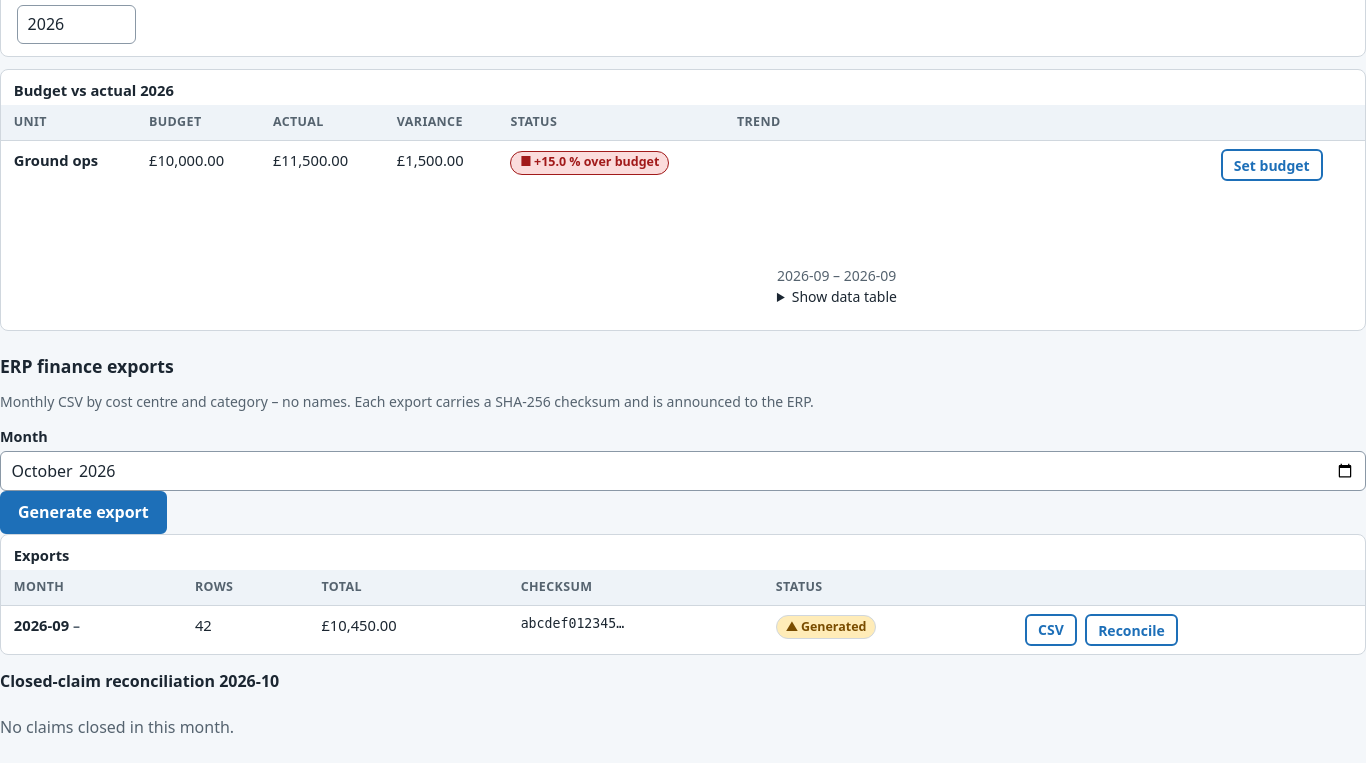
Test case: ClaimCostsScreen (FINANCE) › shows suppressed rows, budget variance and reconciles an ERP export
(page scrolled)
Check: the text "+15.0 % over budget" is shown, box [534,153,659,170]
Click the button with aria-label "Reconcile export 2026-09" at [1131, 630], box [1085,614,1178,646]
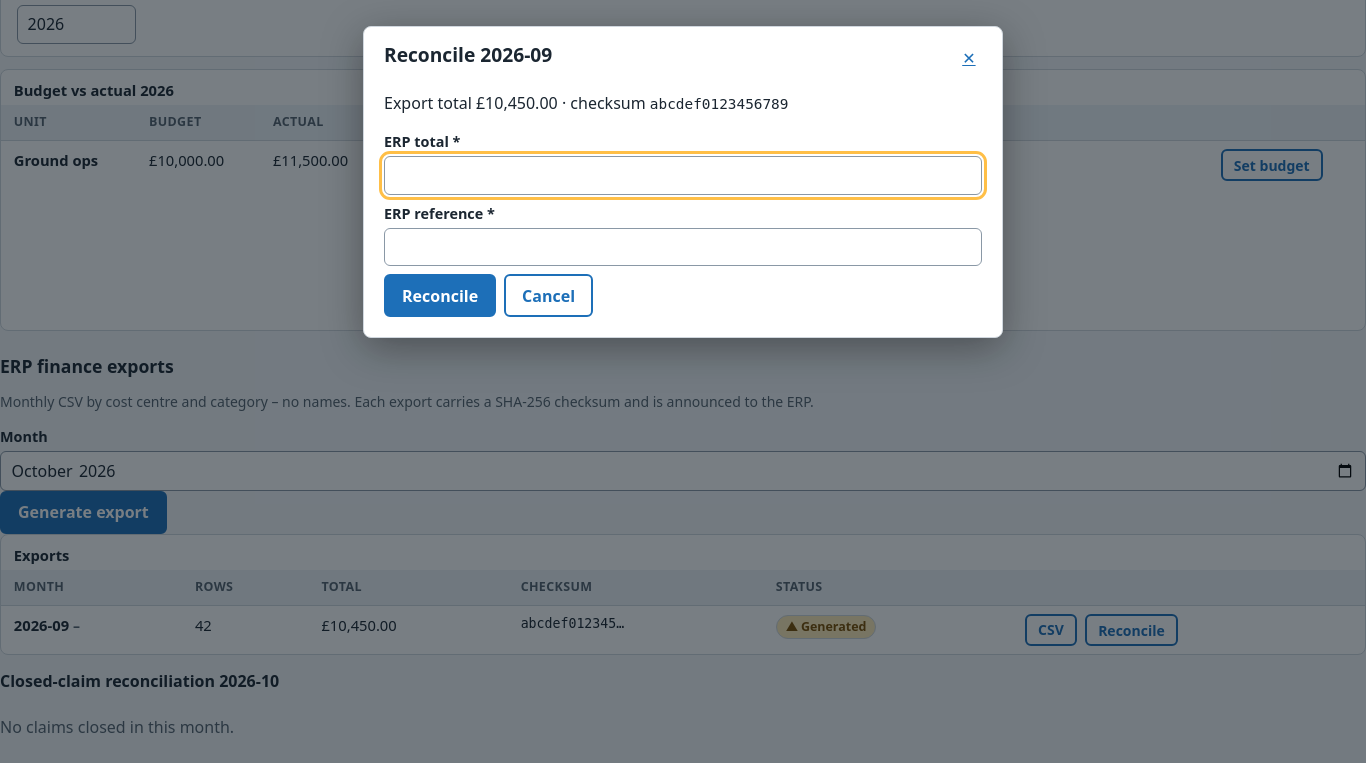
Type "10,450.00" into the field labelled "ERP total *" at [683, 176], box [384,156,982,195]
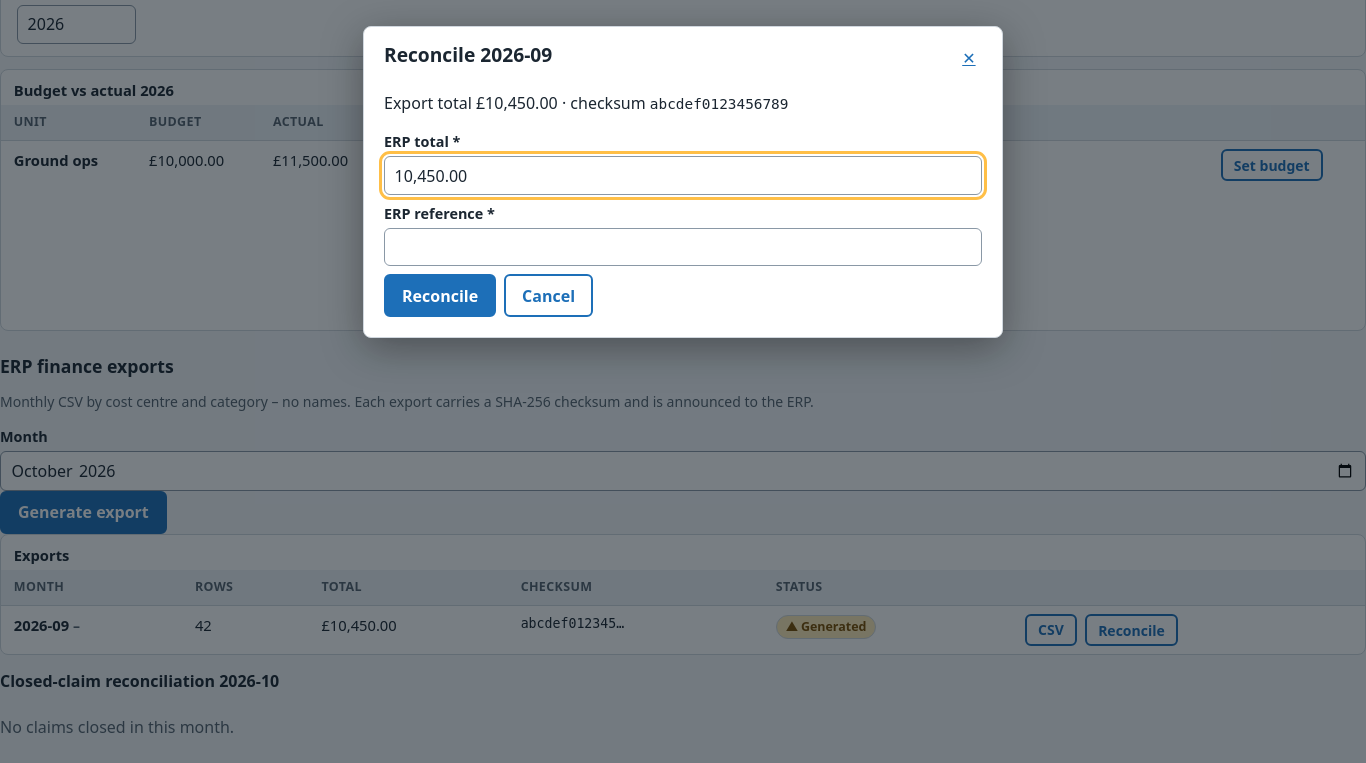
Type "SAP-123" into the field labelled "ERP reference *" at [683, 247], box [384,228,982,266]
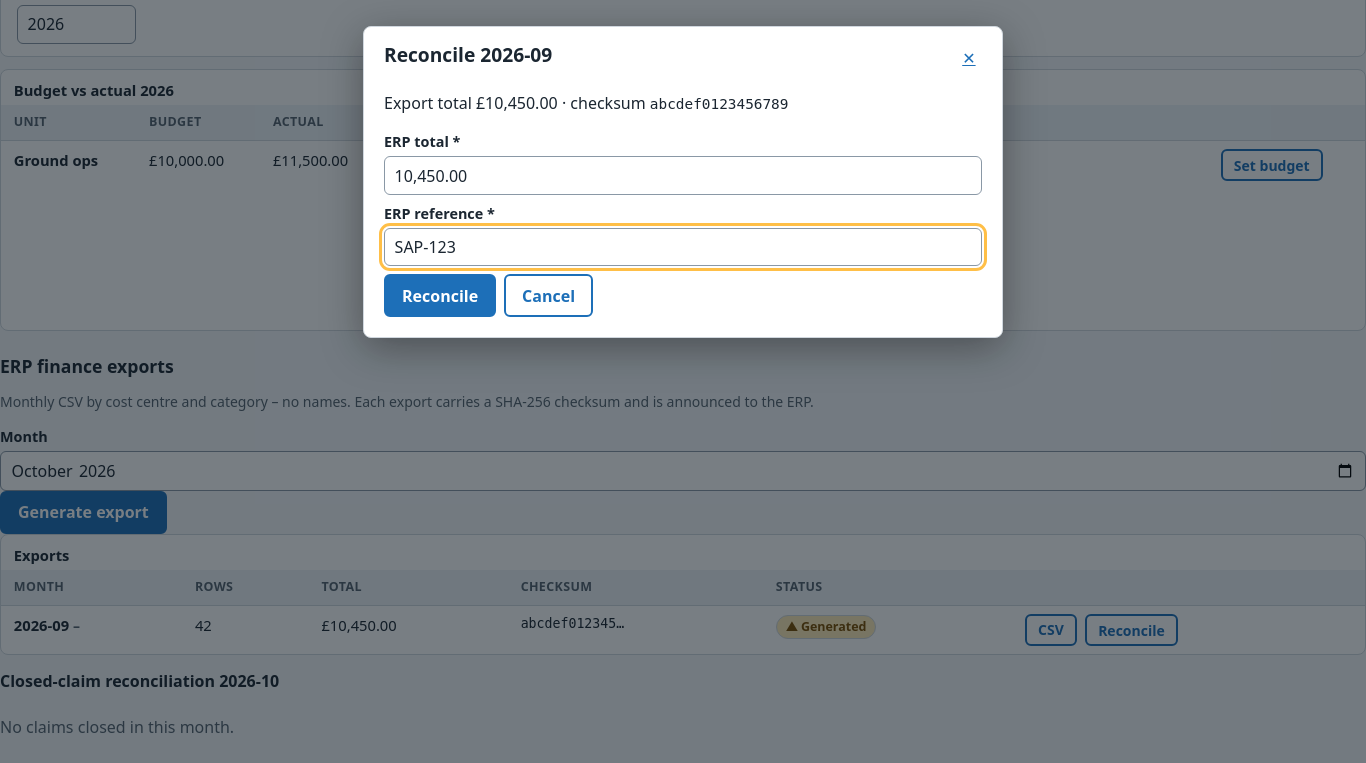
Click the button "Reconcile" at [440, 296], box [384,274,496,317]
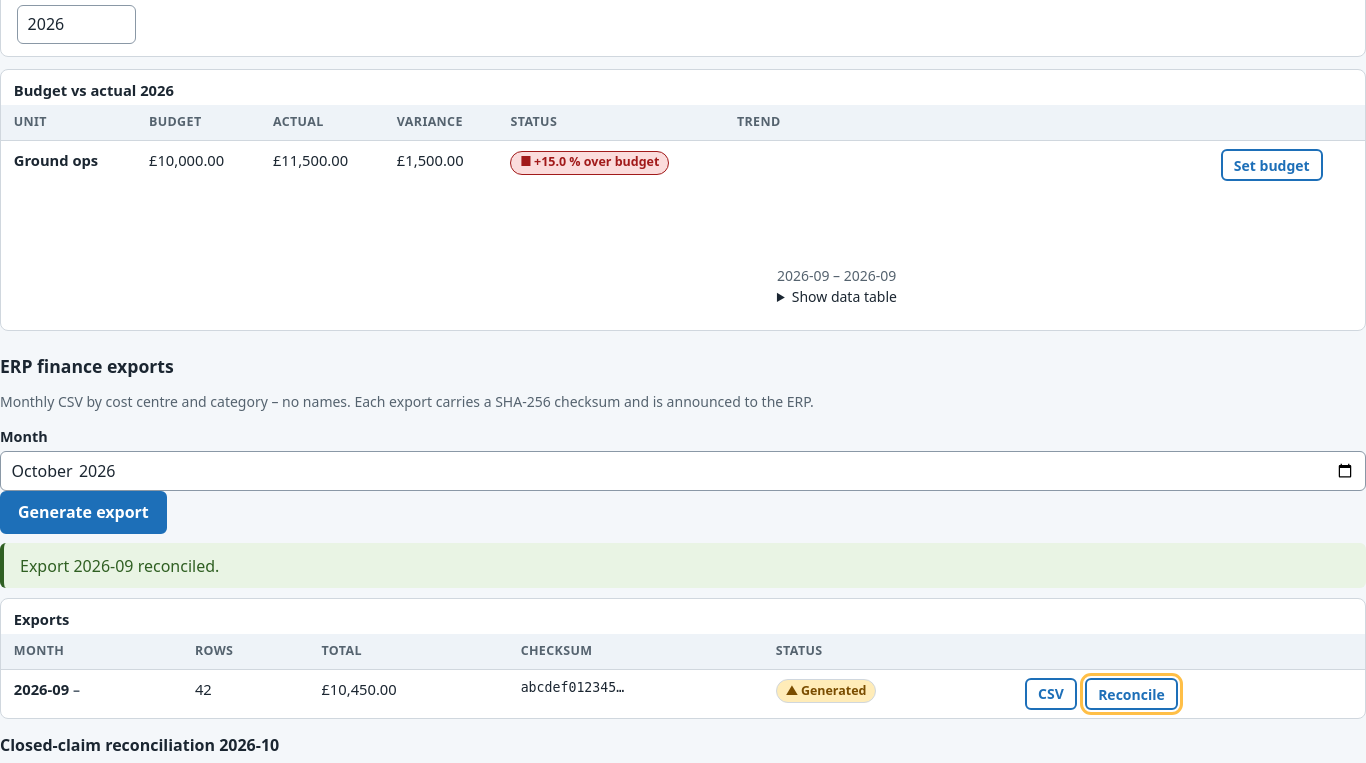
Check: the text "Export 2026-09 reconciled." is shown, box [0,543,1365,588]
